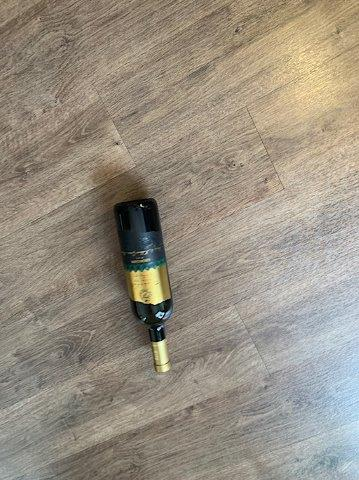botolkaca: (115, 198, 173, 371)
